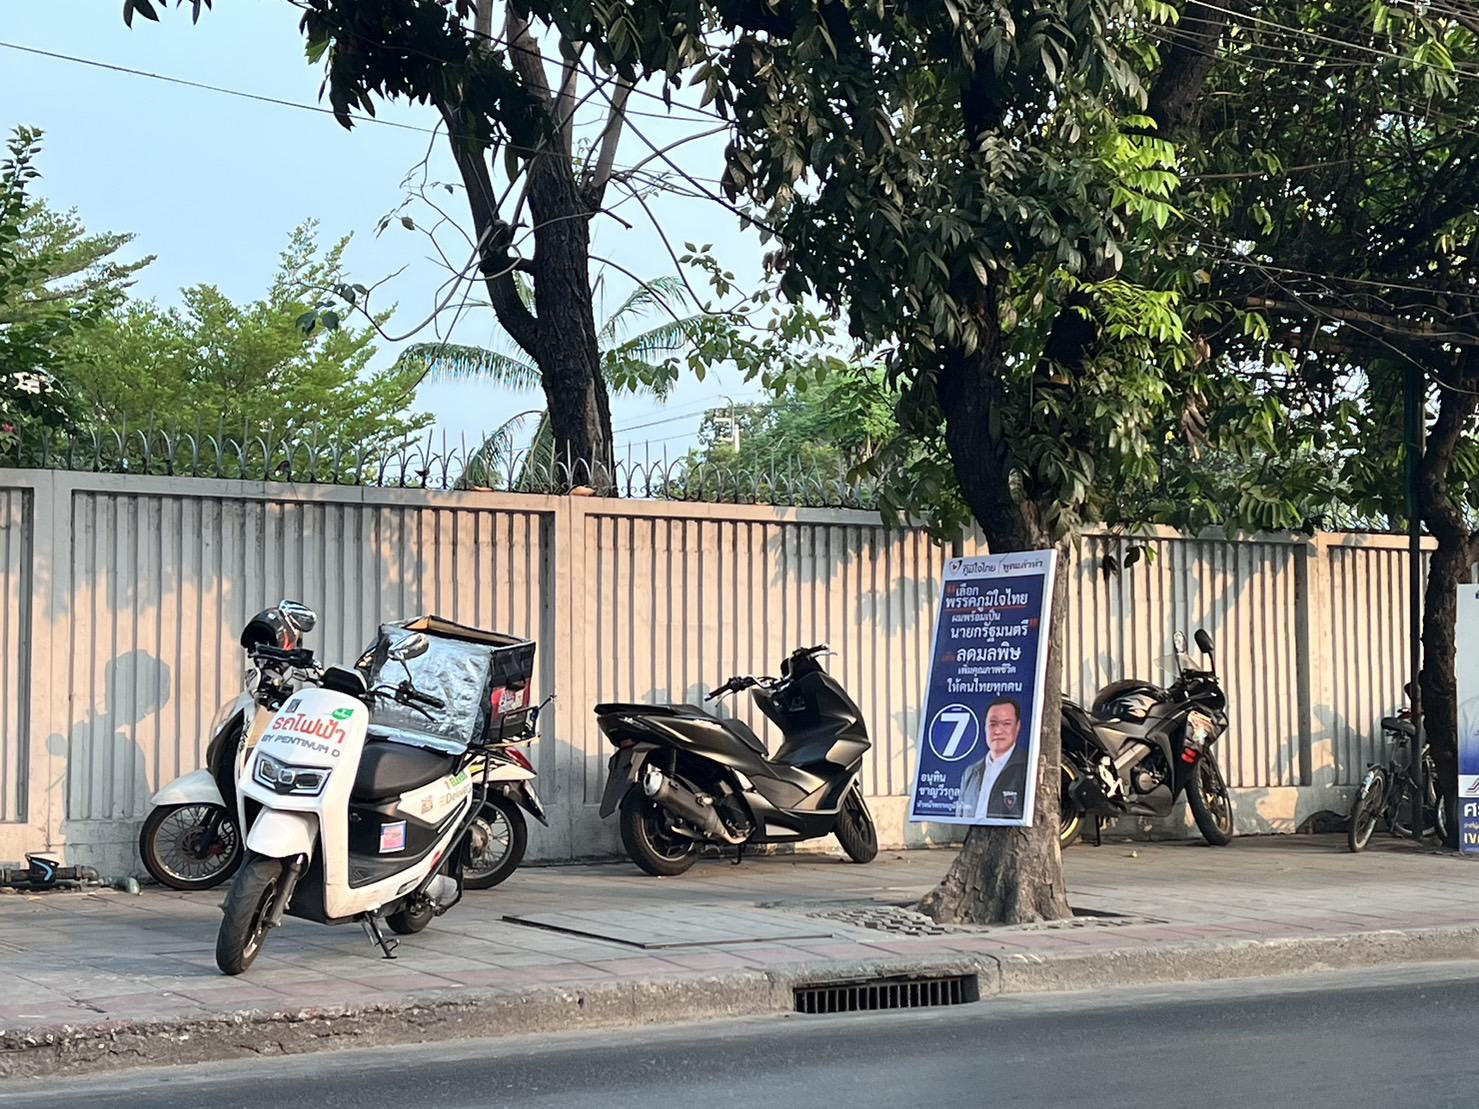Banner: (900, 549, 1043, 829)
